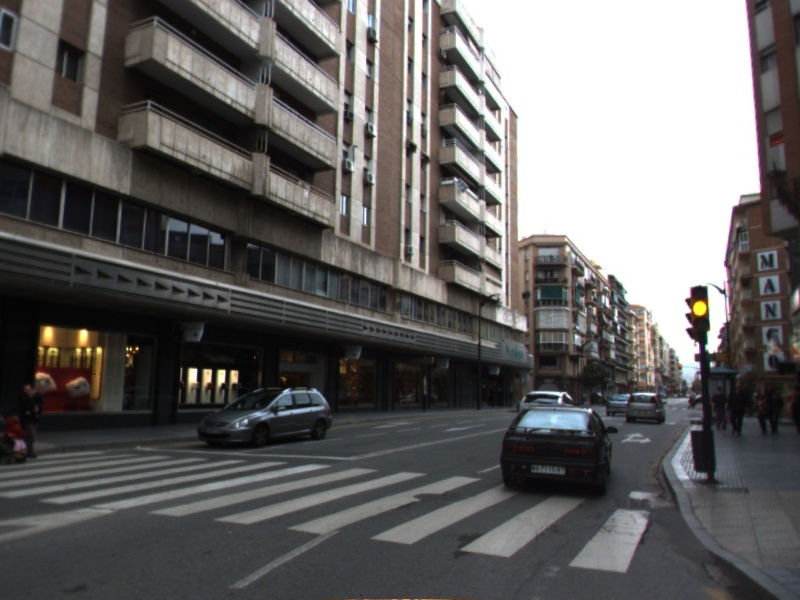STRAIGHT_RIGHT: (618, 431, 654, 446)
